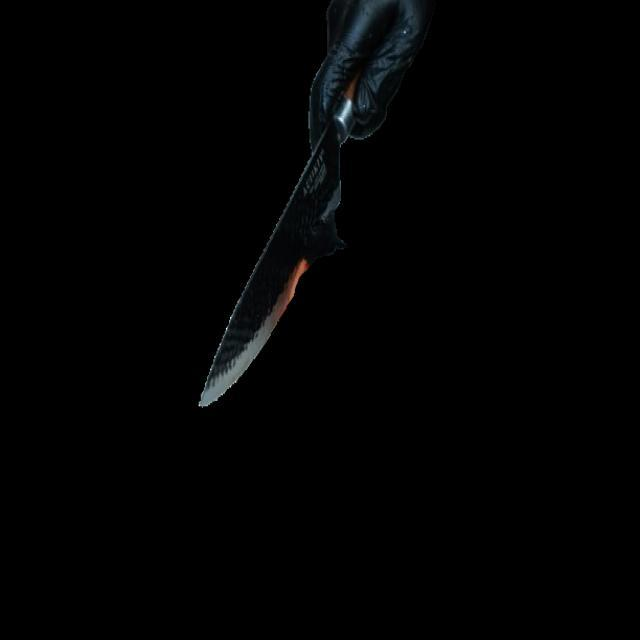knife: (193, 28, 402, 411)
